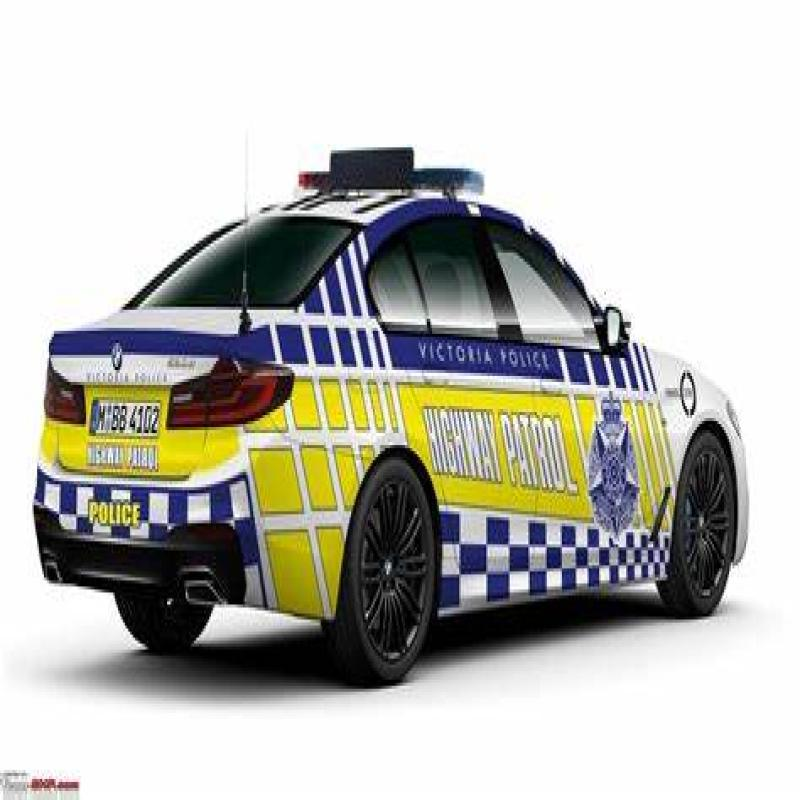AmbulanceSiren: (310, 123, 476, 201)
car: (43, 181, 735, 657)
